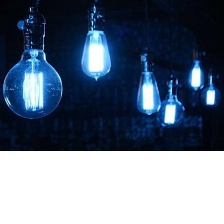light_bulb: (0, 10, 64, 122), (70, 5, 116, 80), (129, 53, 172, 121), (149, 87, 189, 138), (183, 57, 214, 95), (196, 81, 220, 105)
